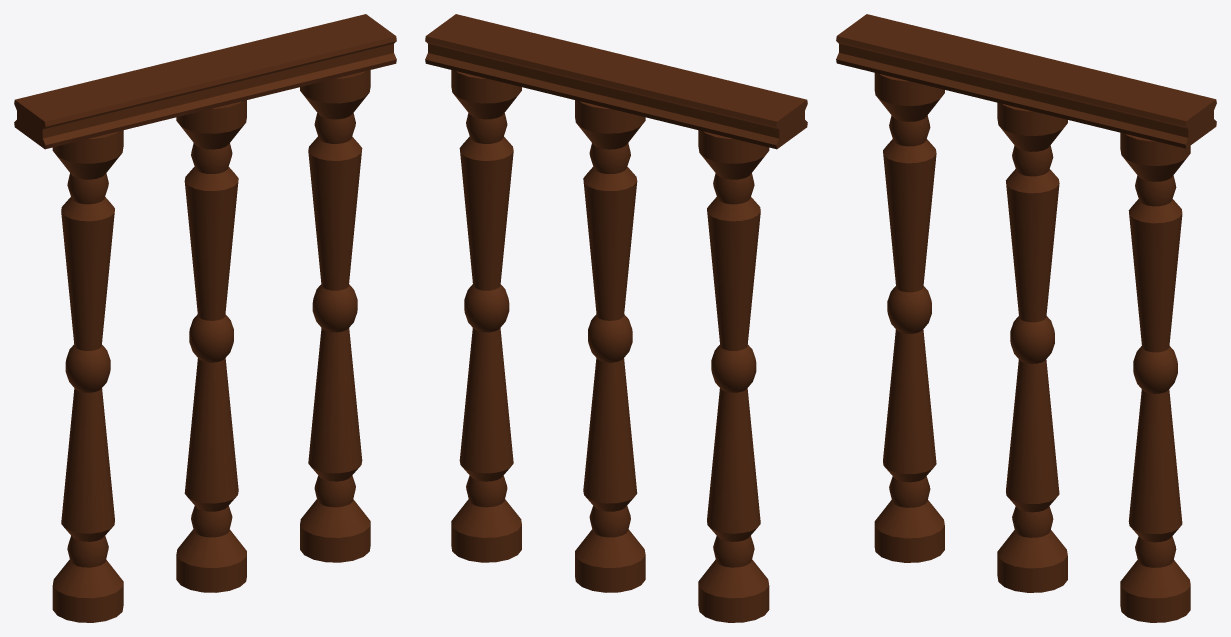
Rendered from Barandilla.fbx.
3 renders of one model, left to right at view 1: azimuth 30°, elevation 25°; view 2: azimuth 150°, elevation 25°; view 3: azimuth 330°, elevation 25°, orthographic.
Parts seen in each view (by area): view 1: Pilares, Madera alargada; view 2: Pilares, Madera alargada; view 3: Pilares, Madera alargada.
Part boxes in pixels (x1=…): Pilares: x1=52, y1=70, x2=370, y2=622; Madera alargada: x1=14, y1=14, x2=396, y2=149; Pilares: x1=451, y1=70, x2=769, y2=622; Madera alargada: x1=425, y1=14, x2=807, y2=149; Pilares: x1=874, y1=73, x2=1190, y2=622; Madera alargada: x1=836, y1=14, x2=1216, y2=148.
Bounding box in the file's own units: 326 × 454 × 57.37.
